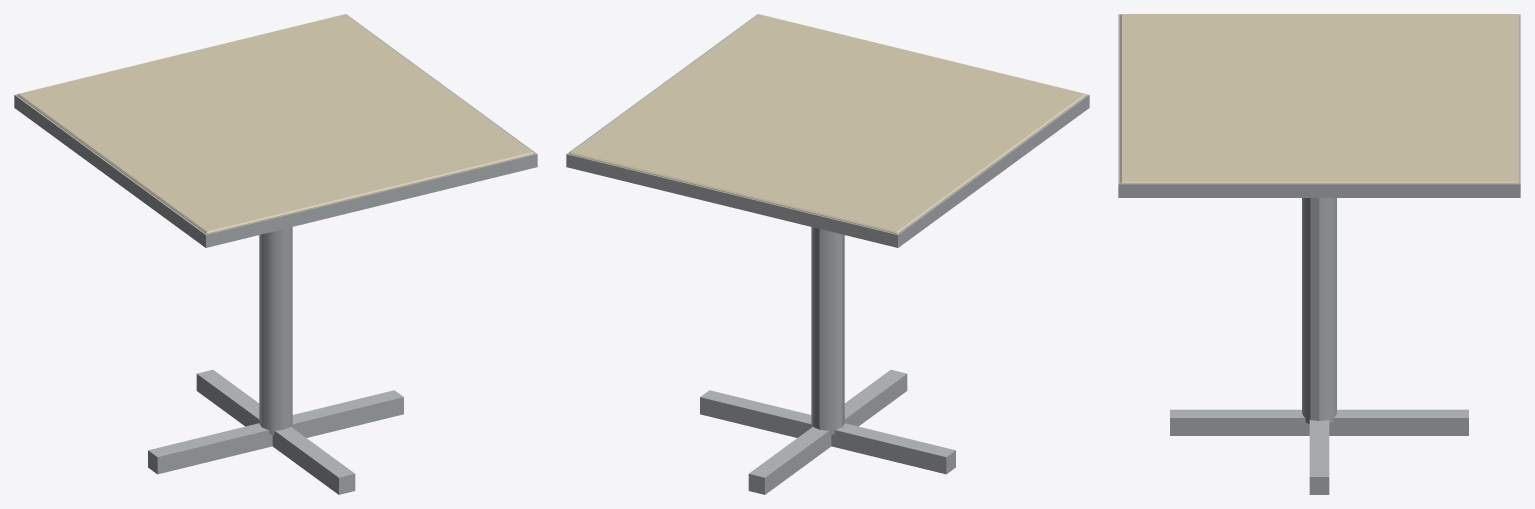
Rendered from prop_diner_table_w80.glb.
3 views of the same model, side by side, from view 1: azimuth 30°, elevation 25°; view 2: azimuth 150°, elevation 25°; view 3: azimuth 270°, elevation 25° (orthographic). The views are drawn at different scales.
Parts seen in each view (by area): view 1: Table; view 2: Table; view 3: Table.
Part boxes in pixels (box(x1,y1,x2,y2)): Table: box(14, 14, 537, 494); Table: box(566, 14, 1089, 494); Table: box(1118, 14, 1520, 494).
Size of what is drawn, in the model's own units: 0.808 by 0.74 by 0.808.
